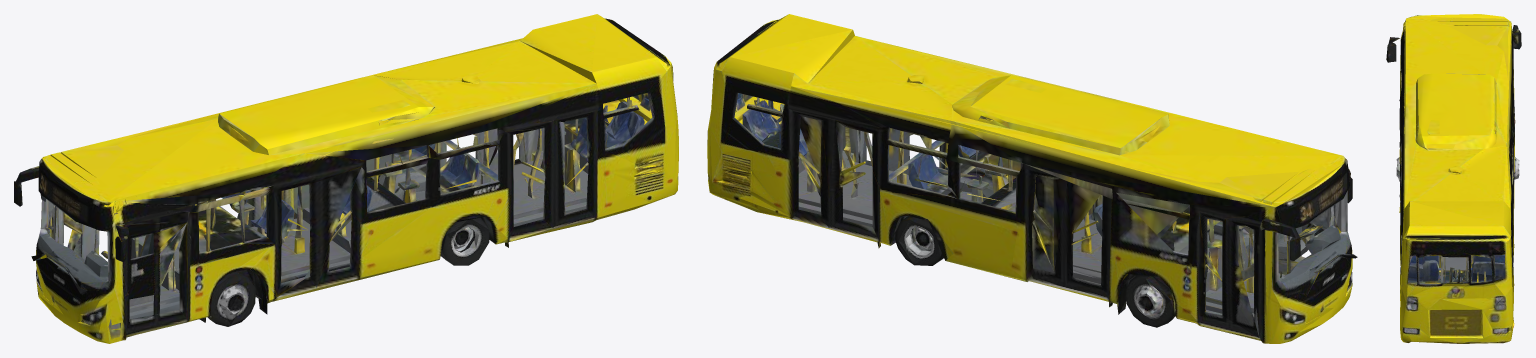
Rendered from onibus_amarelo.glb.
3 renders of one model, left to right at view 1: azimuth 30°, elevation 25°; view 2: azimuth 150°, elevation 25°; view 3: azimuth 270°, elevation 25°, orthographic. The views are drawn at different scales.
Visible parts, largest first — view 1: output_unwrapped; view 2: output_unwrapped; view 3: output_unwrapped.
Boxes of the visible parts, x1,y1,x2,y2 form: output_unwrapped: [14, 14, 678, 343]; output_unwrapped: [707, 14, 1357, 343]; output_unwrapped: [1386, 14, 1521, 343].
Bounding box in the file's own units: 1.9 × 0.4952 × 0.4649.
Materials: 1 (1 with a texture image).
